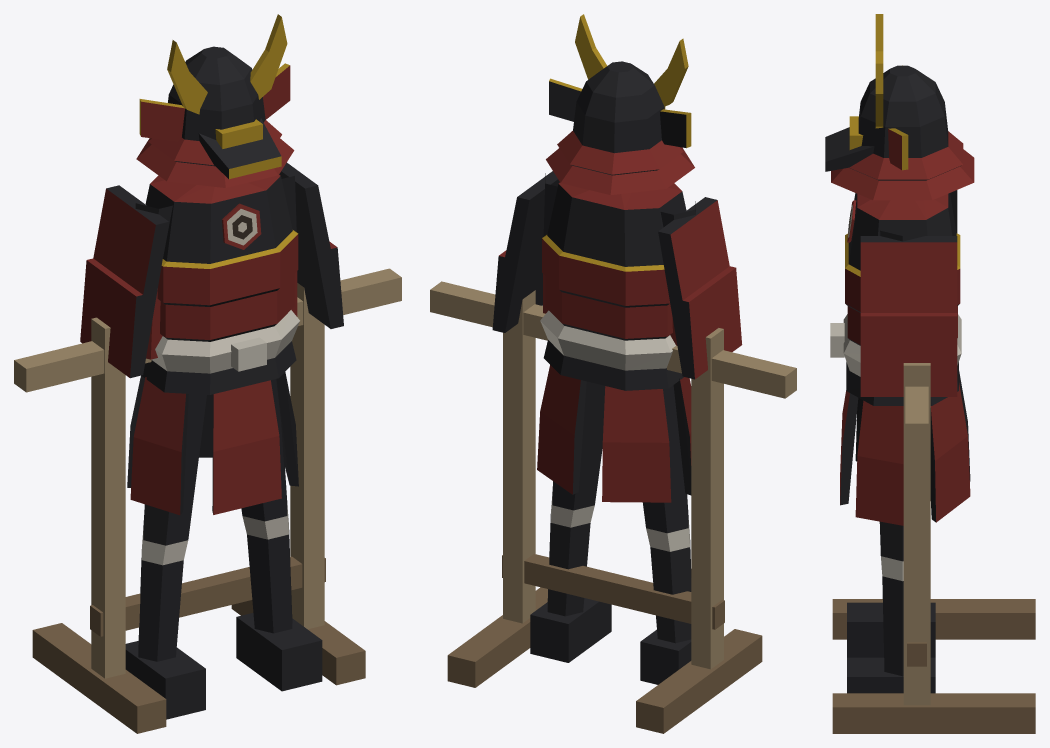
File: yoroi-armour-stand-25f9a2.glb
3 renders of one model, left to right at view 1: azimuth 30°, elevation 25°; view 2: azimuth 150°, elevation 25°; view 3: azimuth 270°, elevation 25°, orthographic. The views are drawn at different scales.
Parts seen in each view (by area): view 1: stand-and-suit, kabuto-mesh; view 2: stand-and-suit, kabuto-mesh; view 3: stand-and-suit, kabuto-mesh.
Boxes of the visible parts, x1,y1,x2,y2 form: stand-and-suit: [14, 162, 401, 733]; kabuto-mesh: [136, 14, 294, 187]; stand-and-suit: [430, 171, 796, 733]; kabuto-mesh: [546, 14, 694, 195]; stand-and-suit: [830, 190, 1035, 733]; kabuto-mesh: [825, 14, 974, 200].
Size of the model in its own units: 1 by 1.68 by 0.5.
